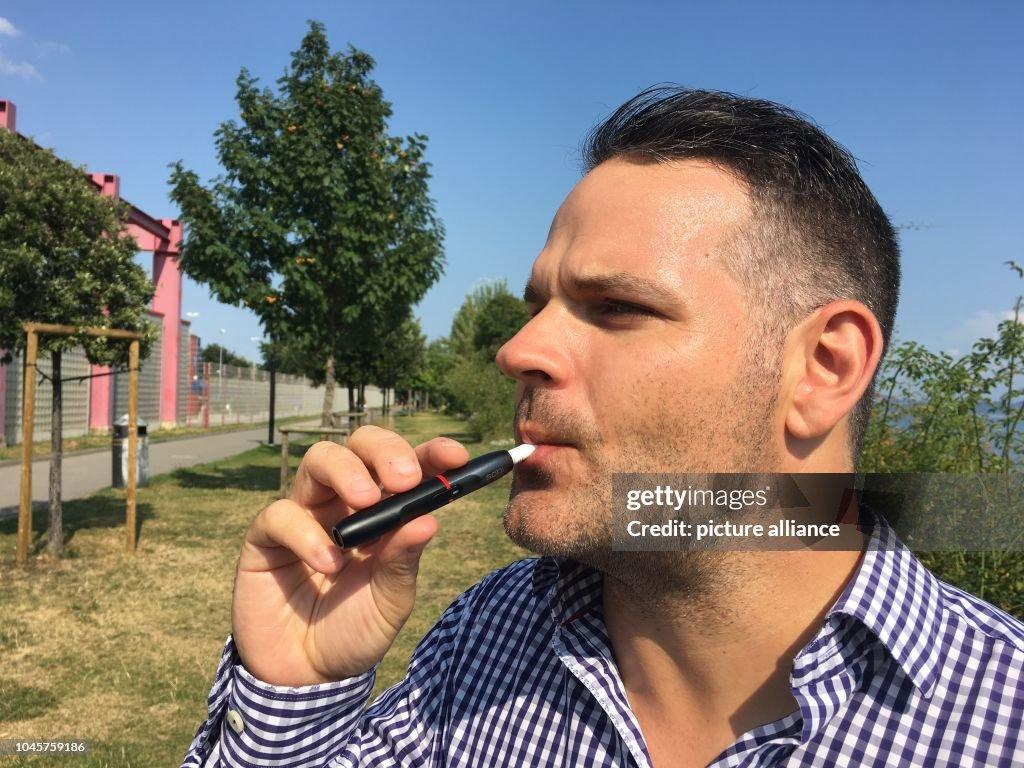iqos: (332, 444, 535, 548)
